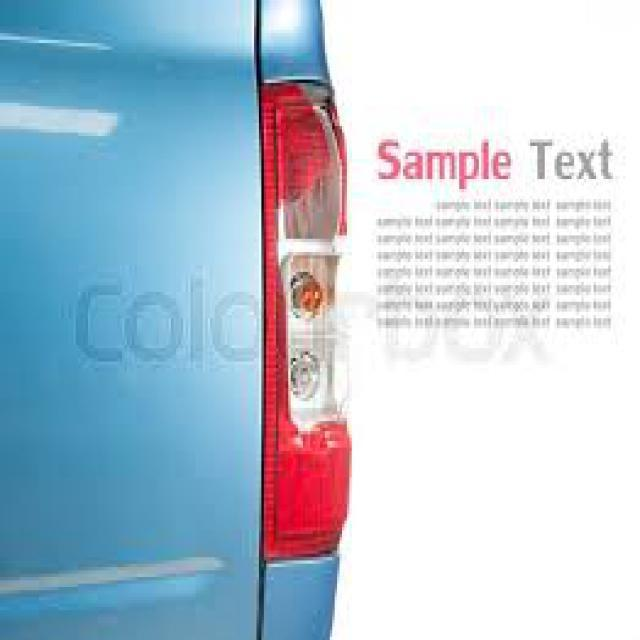Taillight-Damage: (252, 73, 350, 544)
